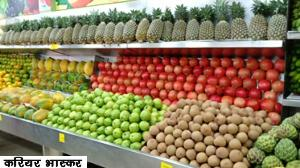kiwi: (147, 96, 281, 168), (239, 124, 249, 134)
mango: (30, 58, 94, 90), (0, 88, 48, 120), (83, 61, 93, 76), (29, 96, 40, 107)
pear: (49, 91, 166, 145), (129, 133, 142, 143)
pineapple: (4, 4, 284, 46), (249, 14, 268, 40)
pomegranate: (92, 54, 300, 94)
tomato: (275, 59, 285, 72)
